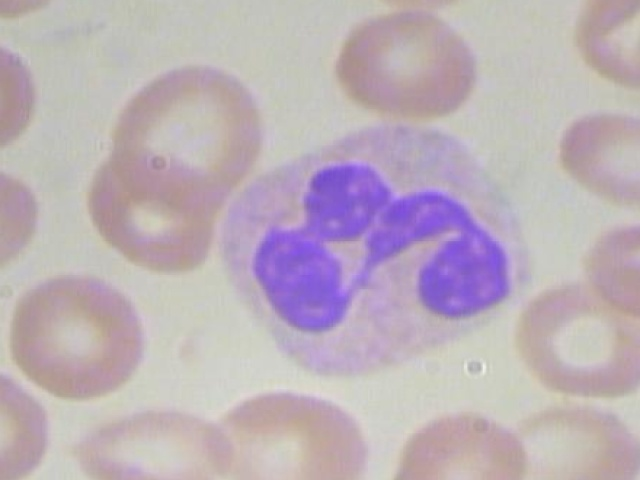RBC: (106, 49, 284, 224), (0, 270, 155, 404), (324, 2, 486, 129), (512, 261, 640, 403), (207, 390, 377, 480), (74, 395, 241, 480), (381, 393, 537, 480), (497, 399, 640, 480), (543, 106, 640, 213), (557, 0, 640, 95), (573, 218, 640, 320), (0, 366, 57, 480), (0, 30, 50, 156), (0, 159, 44, 279)
WBC: (204, 105, 533, 391)
